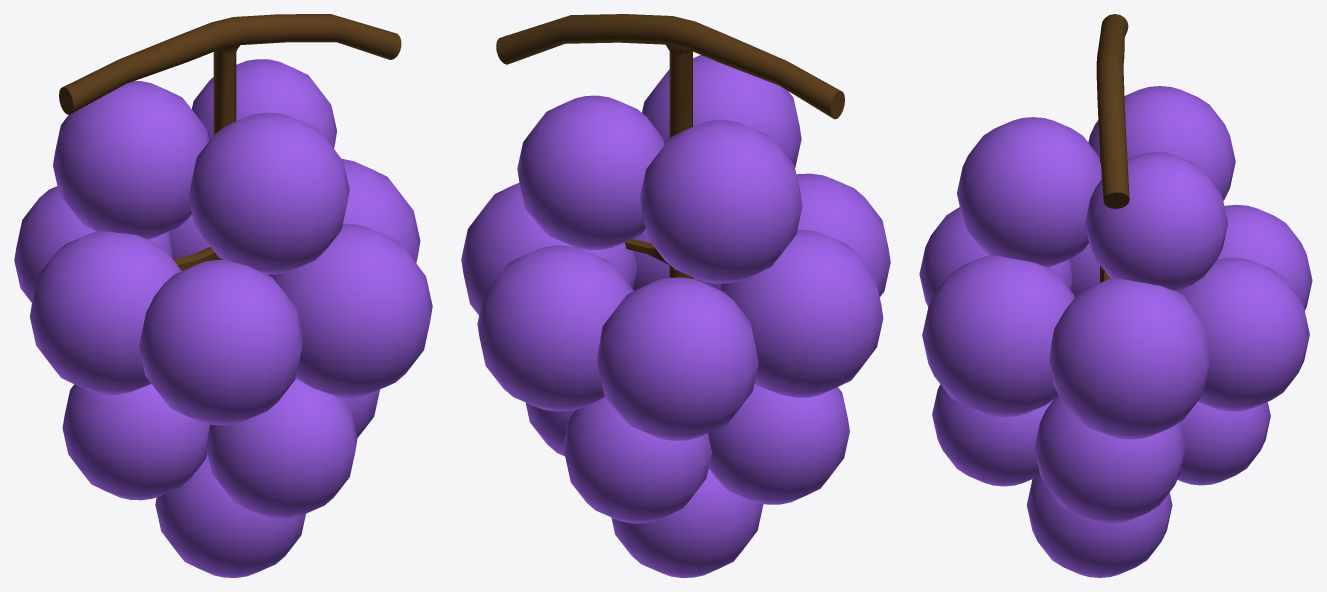
Rendered from grape.fbx.
The picture shows the model from 3 angles, left to right: view 1: azimuth 30°, elevation 25°; view 2: azimuth 150°, elevation 25°; view 3: azimuth 270°, elevation 25°; orthographic projection. The views are drawn at different scales.
Parts seen in each view (by area): view 1: Cylinder.001; view 2: Cylinder.001; view 3: Cylinder.001.
Boxes of the visible parts, x1,y1,x2,y2 form: Cylinder.001: (14, 14, 432, 577); Cylinder.001: (461, 14, 890, 577); Cylinder.001: (919, 14, 1312, 577).
Size of the model in its own units: 27.9 by 38.18 by 26.48.
